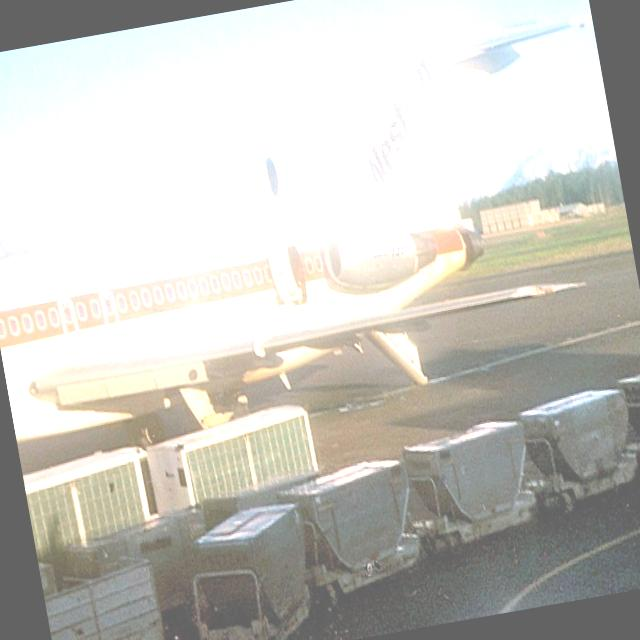Vehicle: (276, 449, 432, 610), (172, 495, 328, 640), (517, 375, 640, 511)
